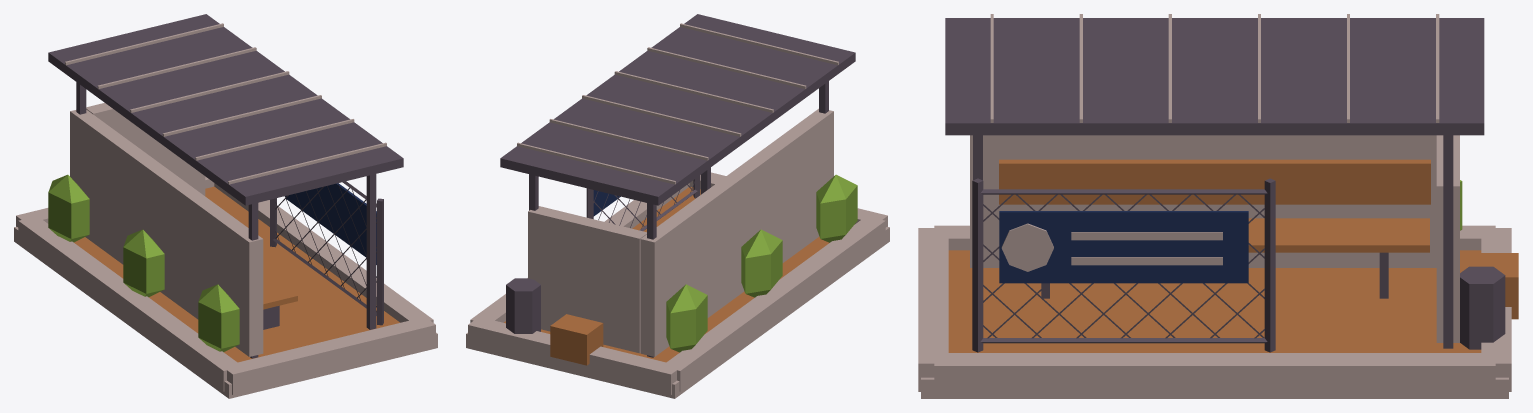
Rendered from bld.dugout.lod2.glb.
3 renders of one model, left to right at view 1: azimuth 30°, elevation 25°; view 2: azimuth 150°, elevation 25°; view 3: azimuth 270°, elevation 25°, orthographic. The views are drawn at different scales.
Visible parts, largest first — view 1: object 3, roof, object 6, object 7, object 4, object 1, interior; view 2: object 3, roof, object 7, object 6, object 4, object 1; view 3: roof, object 3, object 6, interior, object 4, object 1.
Part boxes in pixels (left/top/right/bottom): object 3: left=14, top=103, right=437, bottom=398; roof: left=48, top=14, right=403, bottom=205; object 6: left=74, top=186, right=399, bottom=362; object 7: left=48, top=174, right=239, bottom=352; object 4: left=76, top=82, right=383, bottom=358; object 1: left=285, top=183, right=376, bottom=264; interior: left=263, top=271, right=297, bottom=329; object 3: left=466, top=108, right=889, bottom=398; roof: left=500, top=14, right=855, bottom=205; object 7: left=666, top=174, right=857, bottom=352; object 6: left=504, top=187, right=829, bottom=365; object 4: left=506, top=81, right=828, bottom=357; object 1: left=593, top=190, right=620, bottom=216; roof: left=945, top=14, right=1484, bottom=135; object 3: left=918, top=135, right=1511, bottom=398; object 6: left=948, top=250, right=1518, bottom=352; interior: left=999, top=159, right=1430, bottom=298; object 4: left=972, top=135, right=1505, bottom=352; object 1: left=999, top=211, right=1248, bottom=283.
Size of the model in its own units: 3.72 by 3.25 by 6.74.
